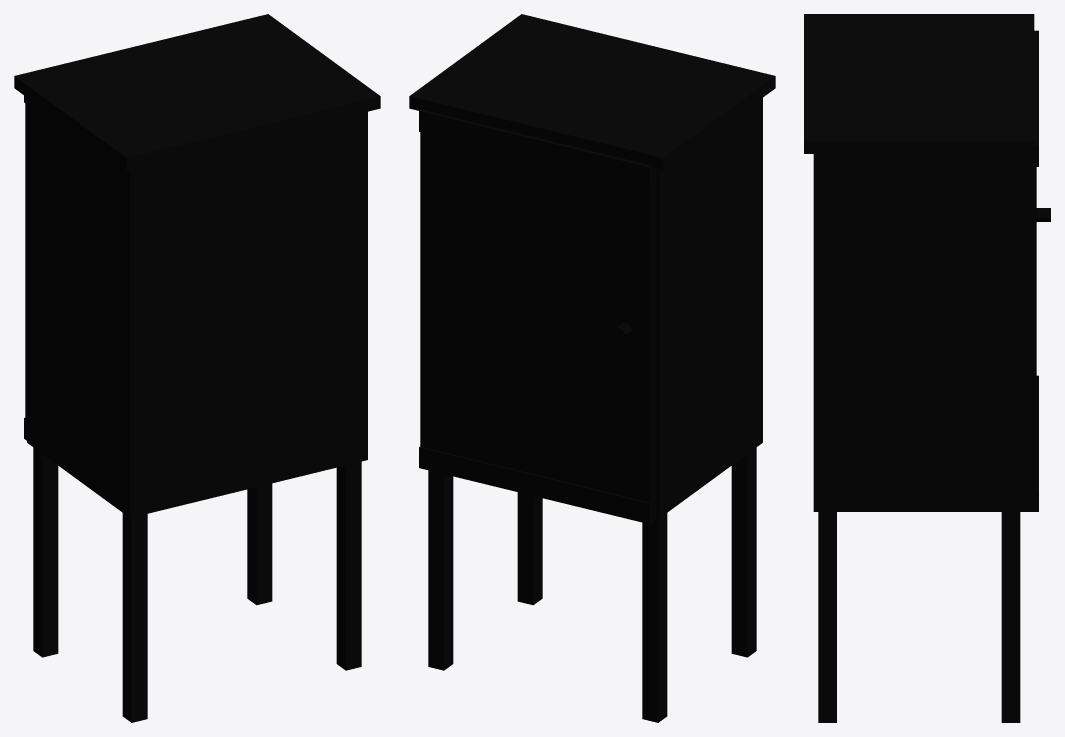
Rendered from SM_meat_safe.fbx.
3 renders of one model, left to right at view 1: azimuth 30°, elevation 25°; view 2: azimuth 150°, elevation 25°; view 3: azimuth 270°, elevation 25°, orthographic. The views are drawn at different scales.
Visible parts, largest first — view 1: meat_safe, meat_safe_door; view 2: meat_safe, meat_safe_door; view 3: meat_safe, meat_safe_door.
Part boxes in pixels (x1,y1,x2,y2): meat_safe: [14, 14, 380, 722]; meat_safe_door: [24, 95, 26, 440]; meat_safe: [409, 14, 775, 722]; meat_safe_door: [419, 109, 655, 523]; meat_safe: [804, 14, 1034, 722]; meat_safe_door: [1025, 30, 1050, 511].
Bounding box in the file's own units: 0.64 × 1.38 × 0.525.
